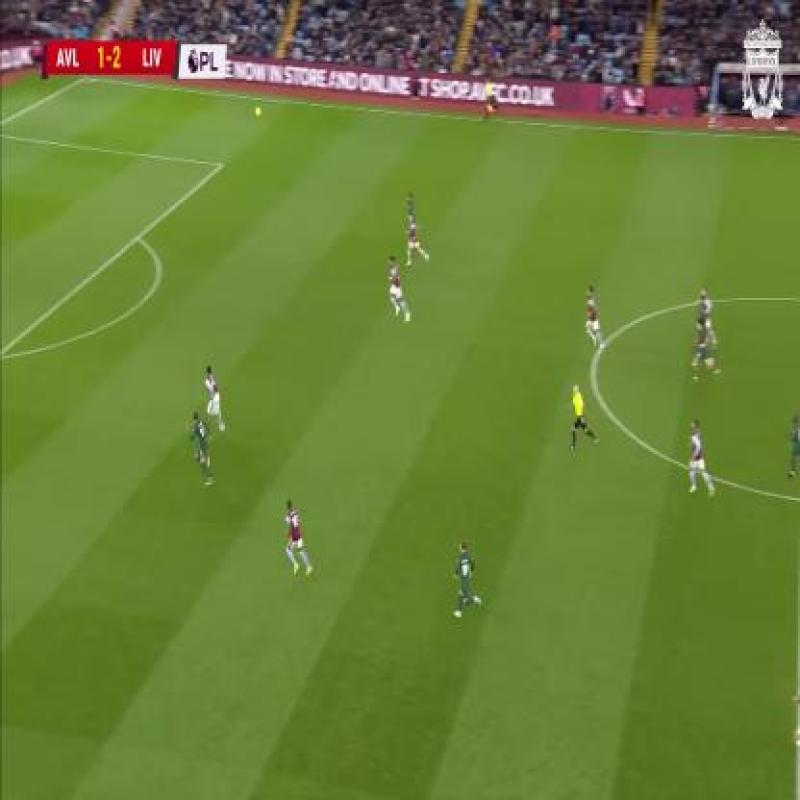1: (79, 75, 100, 85)
10: (130, 229, 146, 250)
9: (211, 156, 231, 177)
c: (580, 344, 608, 383)
